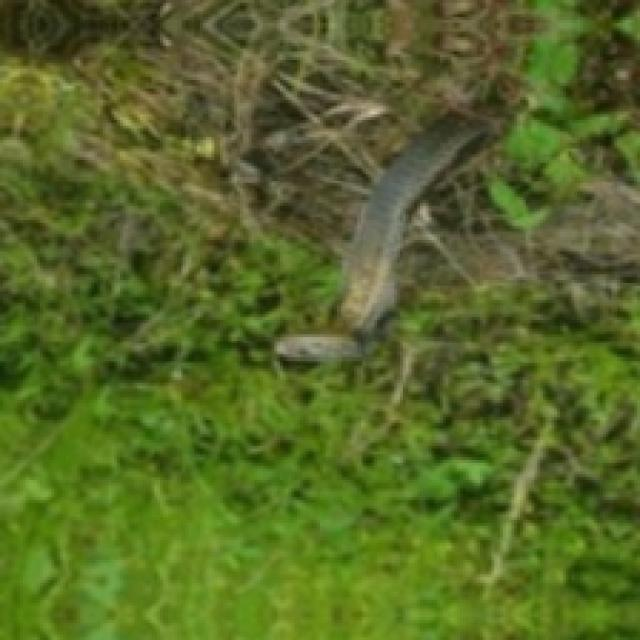king cobra: (274, 114, 500, 360)
